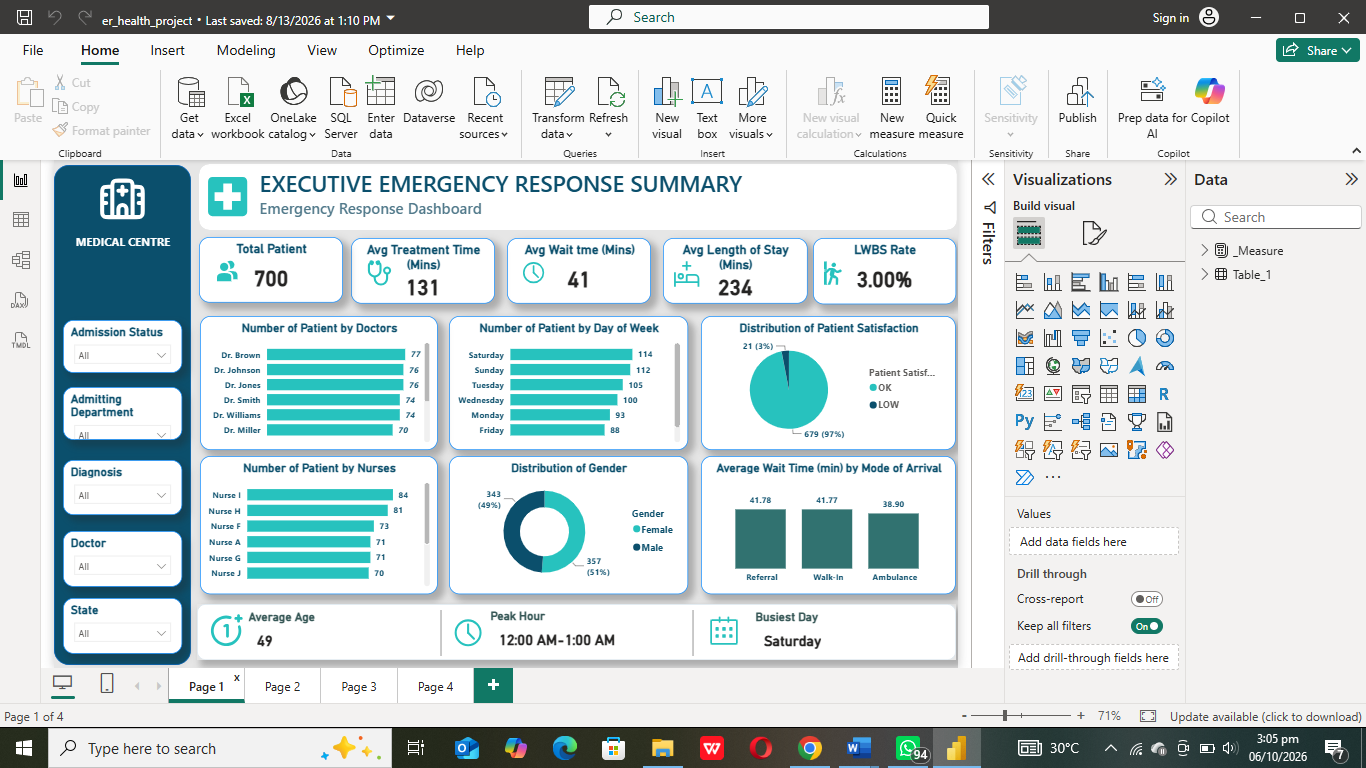

Layout of this report page (visuals, bound fields, positions):
{"tool":"powerbi","page":{"name":"Page 1","canvas":[1280,720],"ordinal":0},"visuals":[{"type":"group","id":"g1","title":"Group 1","box":[0,5.9,1279.5,710.2],"z":0},{"type":"shape","box":[205.1,5.9,1074.3,93.7],"z":0,"group":"g4"},{"type":"shape","box":[0,7.5,194.2,708.7],"z":0,"group":"g1"},{"type":"pieChart","title":"Distribution of Patient Satisfaction","fields":{"Category":["Table_1.Patient Satisfaction"],"Y":["CountNonNull(Table_1.Patient Satisfaction)"]},"box":[916.7,221.1,361.2,190],"z":0,"group":"g2"},{"type":"shape","box":[202.7,629.3,1075.7,79.4],"z":0,"group":"g5"},{"type":"group","id":"g2","title":"Group 6","box":[204.9,5.9,1074.5,609.2],"z":1000,"group":"g1"},{"type":"clusteredBarChart","title":"Number of Patient by Day of Week","fields":{"Category":["Table_1.Day of Week"],"Y":["CountNonNull(Table_1.Patient ID)"]},"box":[558.9,221.1,338.6,190],"z":1000,"group":"g2"},{"type":"slicer","title":"Admission Status","fields":{"Values":["Table_1.Admission Status"]},"box":[12.8,226.8,168.7,75.1],"z":1000},{"type":"shape","box":[541.4,637.8,14.2,65.2],"z":1000,"group":"g6"},{"type":"textbox","box":[286.3,5.7,959.5,93.5],"z":2000},{"type":"image","box":[870.2,136,53.9,51],"z":2000,"group":"g1"},{"type":"clusteredBarChart","title":"Number of Patient by Doctors","fields":{"Category":["Table_1.Doctor"],"Y":["CountNonNull(Table_1.Patient ID)"]},"box":[206.4,221.1,336.8,190],"z":2000,"group":"g2"},{"type":"shape","box":[895.7,637.8,19.9,65.2],"z":2000,"group":"g6"},{"type":"slicer","title":"Admitting Department","fields":{"Values":["Table_1.Admiting Dept"]},"box":[12.8,321.7,168.7,75.1],"z":3000},{"type":"clusteredBarChart","title":"Number of Patient by Nurses","fields":{"Category":["Table_1.Nurse Assigned"],"Y":["CountNonNull(Table_1.Patient ID)"]},"box":[206.4,419.5,336.8,195.6],"z":3000,"group":"g2"},{"type":"cardVisual","title":"Average Age","fields":{"Data":["_Measure.Avg AGE"]},"box":[271,637.8,123.8,60.9],"z":3000,"group":"g6"},{"type":"donutChart","title":"Distribution of Gender","fields":{"Category":["Table_1.Gender"],"Y":["CountNonNull(Table_1.Gender)"]},"box":[558.9,419.5,338.6,195.6],"z":4000,"group":"g2"},{"type":"slicer","title":"Doctor","fields":{"Values":["Table_1.Doctor"]},"box":[12.8,525.8,168.7,79.4],"z":4000},{"type":"cardVisual","title":"Peak Hour","fields":{"Data":["_Measure.Peak hour"]},"box":[613.9,636.4,224.8,60.9],"z":4000,"group":"g6"},{"type":"columnChart","title":"Average Wait Time (min) by Mode of Arrival","fields":{"Category":["Table_1.Mode of Arrival"],"Y":["Avg(Table_1.Wait Time (min))"]},"box":[916.7,419.5,361.2,195.6],"z":5000,"group":"g2"},{"type":"slicer","title":"State","fields":{"Values":["Table_1.State"]},"box":[12.8,620.8,168.7,79.4],"z":5000},{"type":"cardVisual","title":"Busiest Day","fields":{"Data":["_Measure.Busiest day"]},"box":[989.6,637.8,259,60.9],"z":5000,"group":"g6"},{"type":"group","id":"g3","title":"Group 3","box":[204.9,109.2,1073,95],"z":6000,"group":"g2"},{"type":"card","title":"Avg Wait tme (Mins)","fields":{"Values":["_Measure.Average_waittime"]},"box":[641.5,110.9,203.9,92.8],"z":6000,"group":"g3"},{"type":"slicer","title":"Diagnosis","fields":{"Values":["Table_1.Diagnosis"]},"box":[12.8,425.2,168.7,78],"z":6000},{"type":"card","title":"Avg Length of Stay (Mins)","fields":{"Values":["_Measure.avg length of stay"]},"box":[862.6,110,204.5,93.2],"z":7000,"group":"g3"},{"type":"image","box":[656.2,126.1,46.8,66.6],"z":7000},{"type":"image","box":[1080.3,138.6,45.4,42.5],"z":7000,"group":"g2"},{"type":"group","id":"g4","title":"Group 2","box":[205.1,5.9,1074.3,93.7],"z":8000,"group":"g2"},{"type":"card","title":"Avg Treatment Time (Mins)","fields":{"Values":["_Measure.Avg treatment time"]},"box":[420.3,110.9,203.9,93.2],"z":8000,"group":"g3"},{"type":"image","box":[205.5,123.3,80.8,68],"z":8000},{"type":"card","title":"Total Patient","fields":{"Values":["_Measure.Total Patient"]},"box":[204.9,109.2,203.9,93.2],"z":9000,"group":"g3"},{"type":"image","box":[430.9,129,60.9,62.4],"z":9000},{"type":"textbox","box":[19.8,99.2,155.9,42.5],"z":10000},{"type":"group","id":"g5","title":"Group 7","box":[202.7,629.3,1075.7,79.4],"z":11000},{"type":"image","box":[558.4,640.6,56.7,59.5],"z":12000},{"type":"card","title":"LWBS Rate","fields":{"Values":["_Measure.LWBS Rate"]},"box":[1075.2,110.4,202.7,93.5],"z":13000,"group":"g3"},{"type":"image","box":[924.1,642,51,49.6],"z":13000},{"type":"group","id":"g6","title":"Group 8","box":[271,636.4,977.6,66.6],"z":13005,"group":"g5"},{"type":"image","box":[42.5,15.6,109.1,79.4],"z":14000},{"type":"image","box":[204.1,9.9,83.6,83.6],"z":15000},{"type":"image","box":[215.4,637.8,56.7,59.5],"z":16000}]}

Visuals, with their boxes on the page's 1280x720 design canvas (x1, y1, x2, y2). These are canvas units, not pixel positions in the 1366x768 screenshot, which may show the page scaled, cropped or inside an application window:
"Group 1" group: (x1=0, y1=6, x2=1280, y2=716)
shape: (x1=205, y1=6, x2=1279, y2=100)
shape: (x1=0, y1=8, x2=194, y2=716)
"Distribution of Patient Satisfaction" pieChart: (x1=917, y1=221, x2=1278, y2=411)
shape: (x1=203, y1=629, x2=1278, y2=709)
"Group 6" group: (x1=205, y1=6, x2=1279, y2=615)
"Number of Patient by Day of Week" clusteredBarChart: (x1=559, y1=221, x2=898, y2=411)
"Admission Status" slicer: (x1=13, y1=227, x2=182, y2=302)
shape: (x1=541, y1=638, x2=556, y2=703)
textbox: (x1=286, y1=6, x2=1246, y2=99)
image: (x1=870, y1=136, x2=924, y2=187)
"Number of Patient by Doctors" clusteredBarChart: (x1=206, y1=221, x2=543, y2=411)
shape: (x1=896, y1=638, x2=916, y2=703)
"Admitting Department" slicer: (x1=13, y1=322, x2=182, y2=397)
"Number of Patient by Nurses" clusteredBarChart: (x1=206, y1=420, x2=543, y2=615)
"Average Age" cardVisual: (x1=271, y1=638, x2=395, y2=699)
"Distribution of Gender" donutChart: (x1=559, y1=420, x2=898, y2=615)
"Doctor" slicer: (x1=13, y1=526, x2=182, y2=605)
"Peak Hour" cardVisual: (x1=614, y1=636, x2=839, y2=697)
"Average Wait Time (min) by Mode of Arrival" columnChart: (x1=917, y1=420, x2=1278, y2=615)
"State" slicer: (x1=13, y1=621, x2=182, y2=700)
"Busiest Day" cardVisual: (x1=990, y1=638, x2=1249, y2=699)
"Group 3" group: (x1=205, y1=109, x2=1278, y2=204)
"Avg Wait tme (Mins)" card: (x1=642, y1=111, x2=845, y2=204)
"Diagnosis" slicer: (x1=13, y1=425, x2=182, y2=503)
"Avg Length of Stay (Mins)" card: (x1=863, y1=110, x2=1067, y2=203)
image: (x1=656, y1=126, x2=703, y2=193)
image: (x1=1080, y1=139, x2=1126, y2=181)
"Group 2" group: (x1=205, y1=6, x2=1279, y2=100)
"Avg Treatment Time (Mins)" card: (x1=420, y1=111, x2=624, y2=204)
image: (x1=206, y1=123, x2=286, y2=191)
"Total Patient" card: (x1=205, y1=109, x2=409, y2=202)
image: (x1=431, y1=129, x2=492, y2=191)
textbox: (x1=20, y1=99, x2=176, y2=142)
"Group 7" group: (x1=203, y1=629, x2=1278, y2=709)
image: (x1=558, y1=641, x2=615, y2=700)
"LWBS Rate" card: (x1=1075, y1=110, x2=1278, y2=204)
image: (x1=924, y1=642, x2=975, y2=692)
"Group 8" group: (x1=271, y1=636, x2=1249, y2=703)
image: (x1=42, y1=16, x2=152, y2=95)
image: (x1=204, y1=10, x2=288, y2=94)
image: (x1=215, y1=638, x2=272, y2=697)
